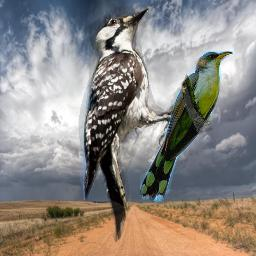Cuckoo: (140, 51, 233, 202)
Woodpecker: (76, 2, 173, 246)
